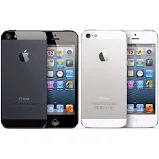iphone: (79, 27, 128, 129), (1, 28, 49, 130)
